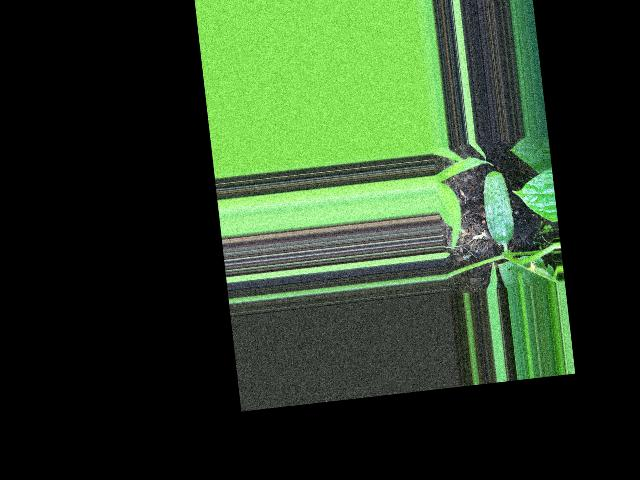cucumber: (479, 168, 515, 245)
